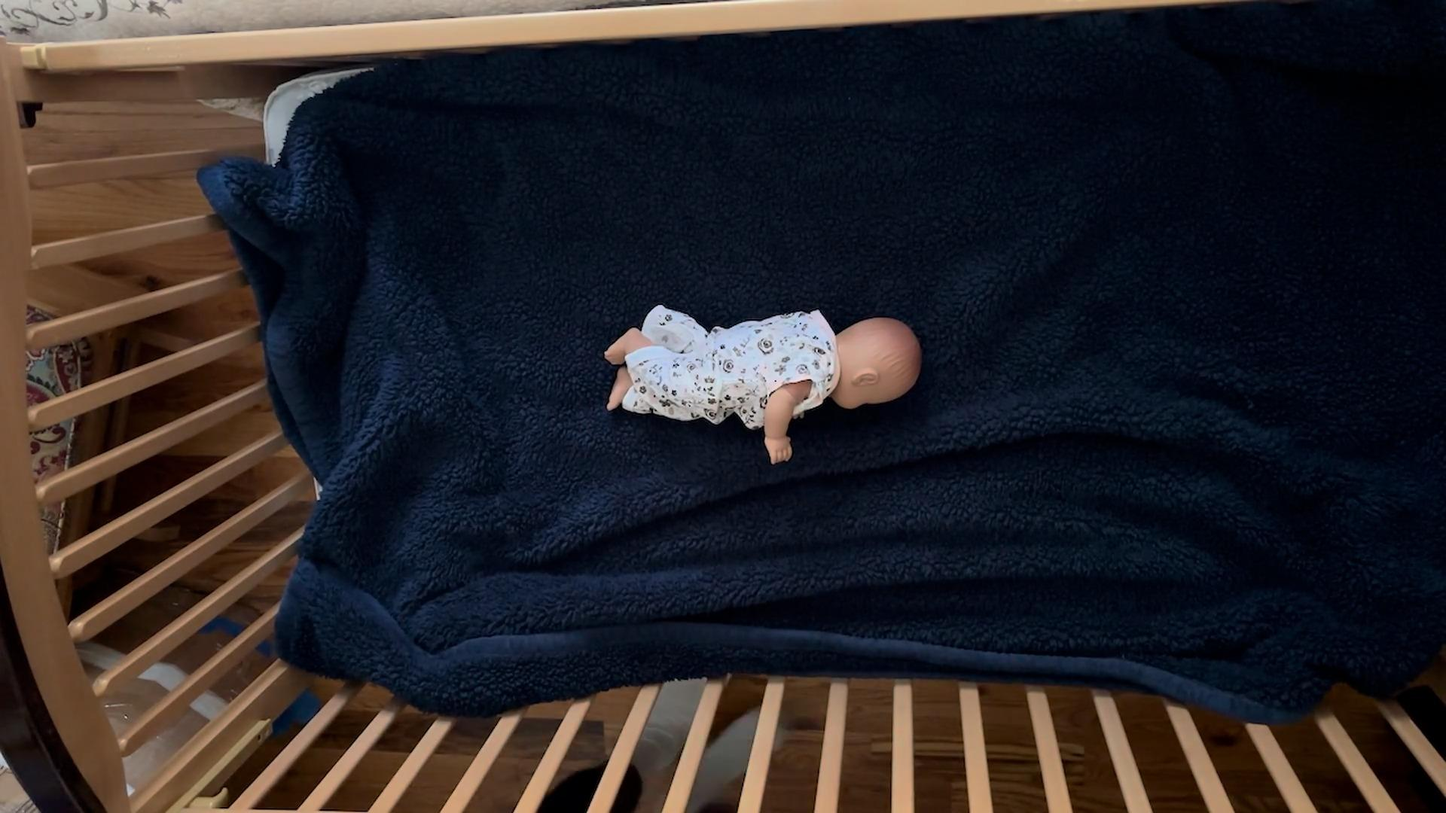baby: (603, 295, 926, 469)
